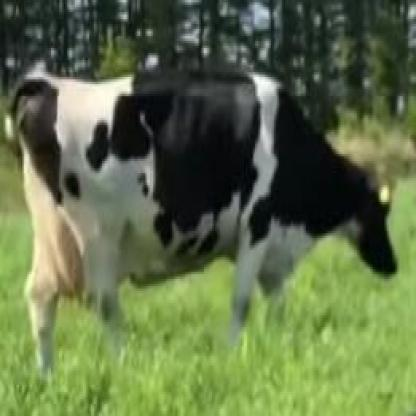cow: (19, 67, 397, 373)
